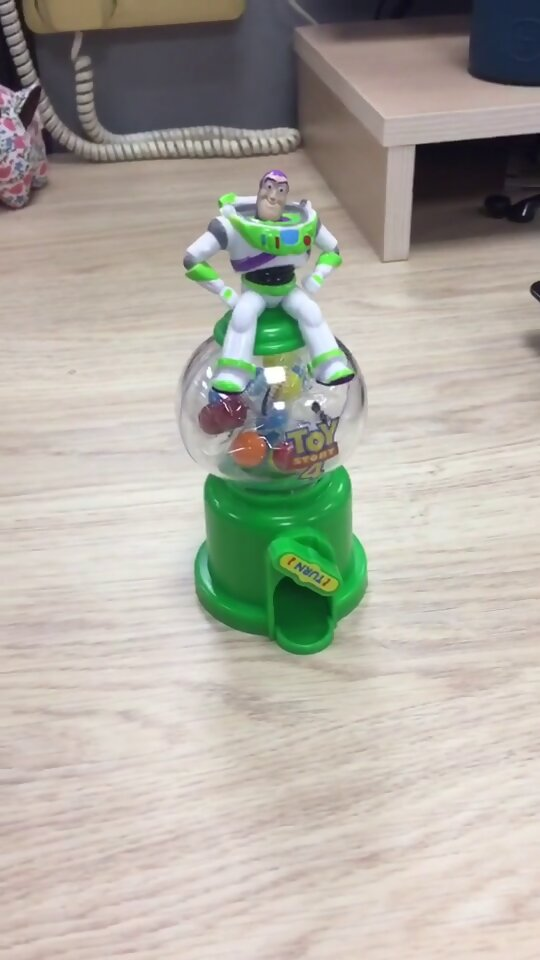buzz: (170, 166, 380, 659)
